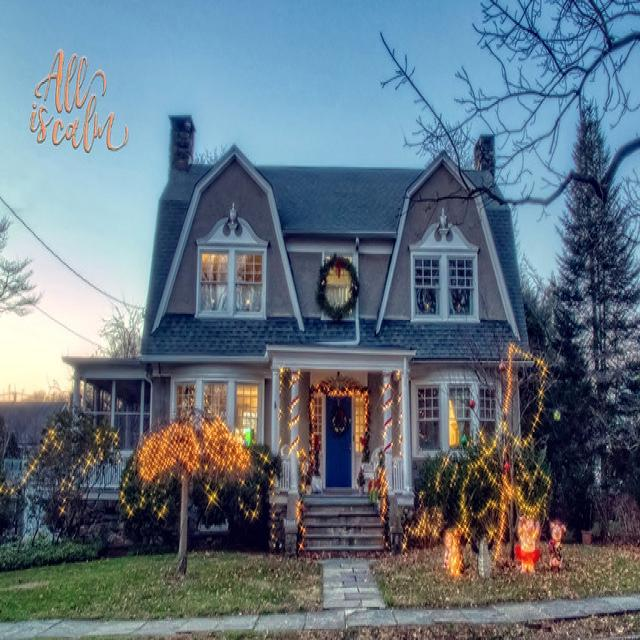Normal_building: (61, 116, 541, 560)
